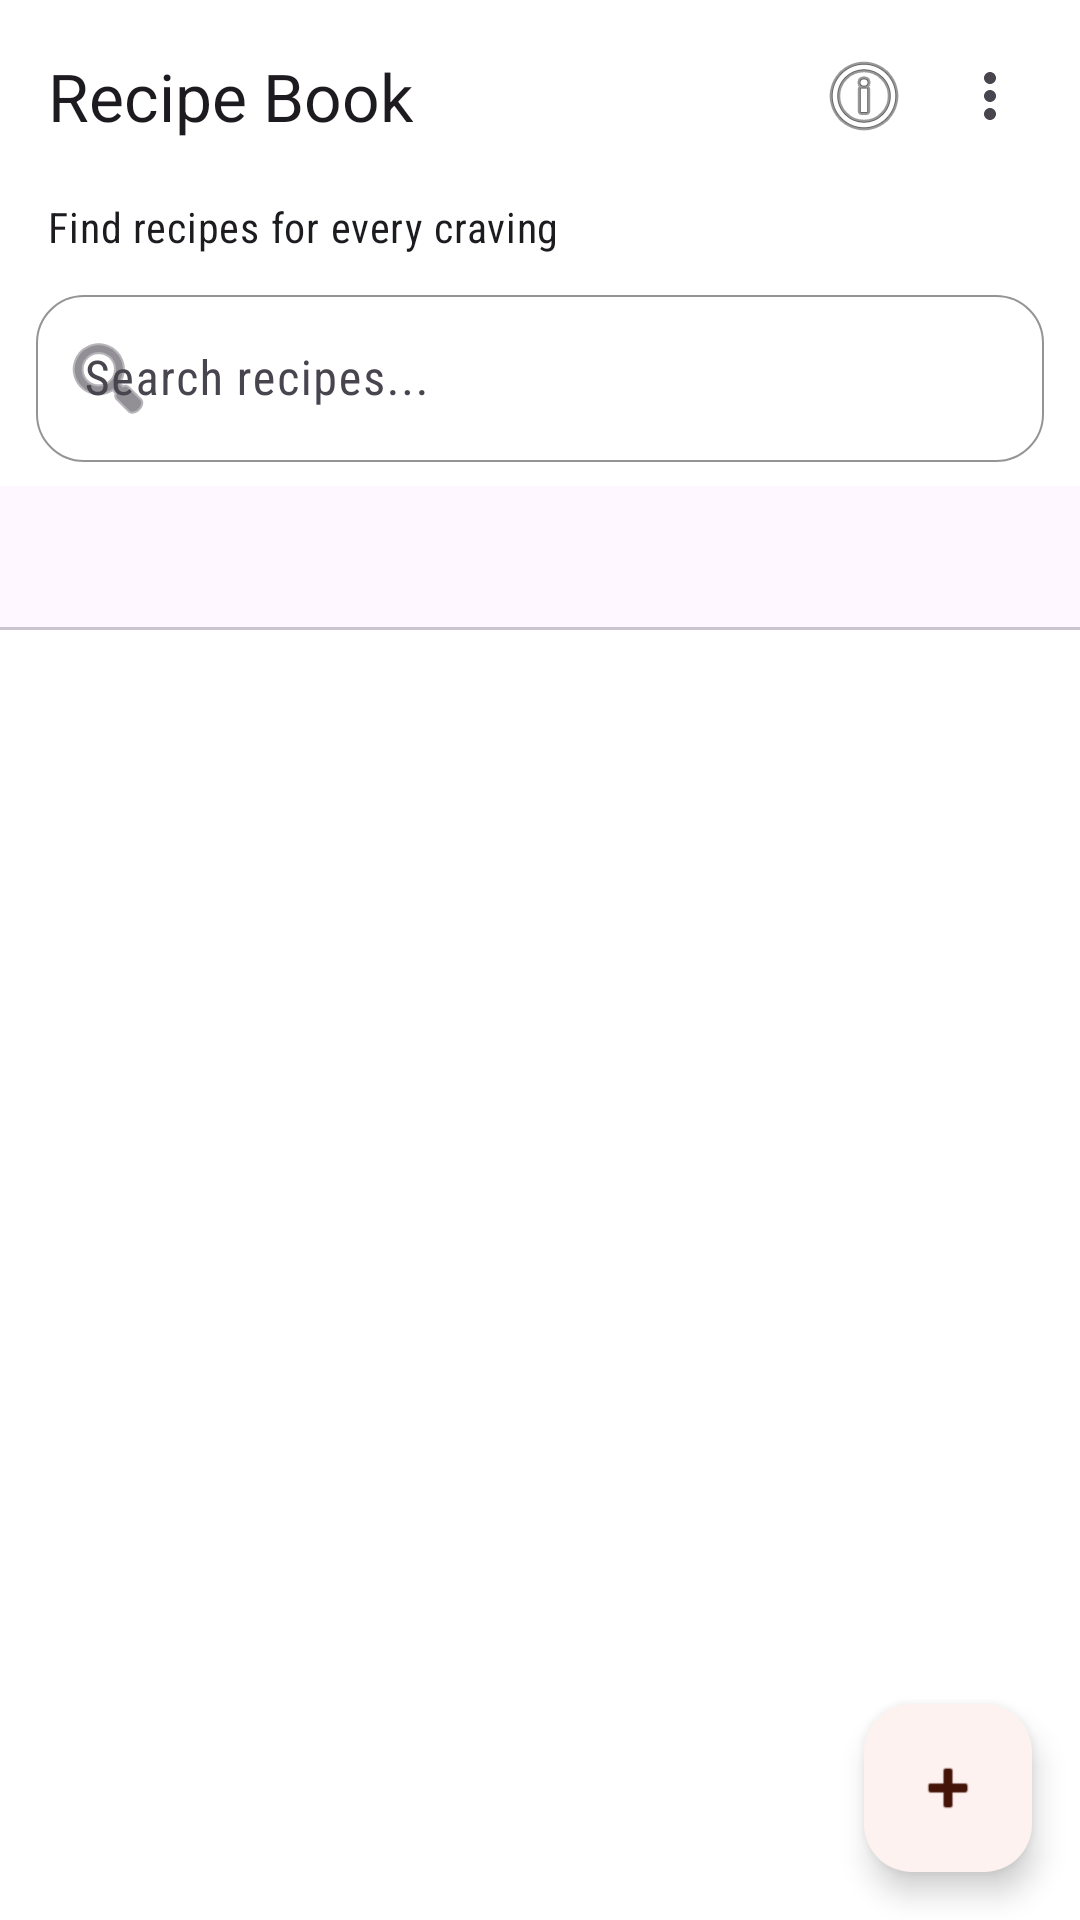

Screen size 1080×1920. Icon name, then its box in pixels as (x1, y1, x2, y2):
Share new recipe: (864, 1704, 1032, 1872)
